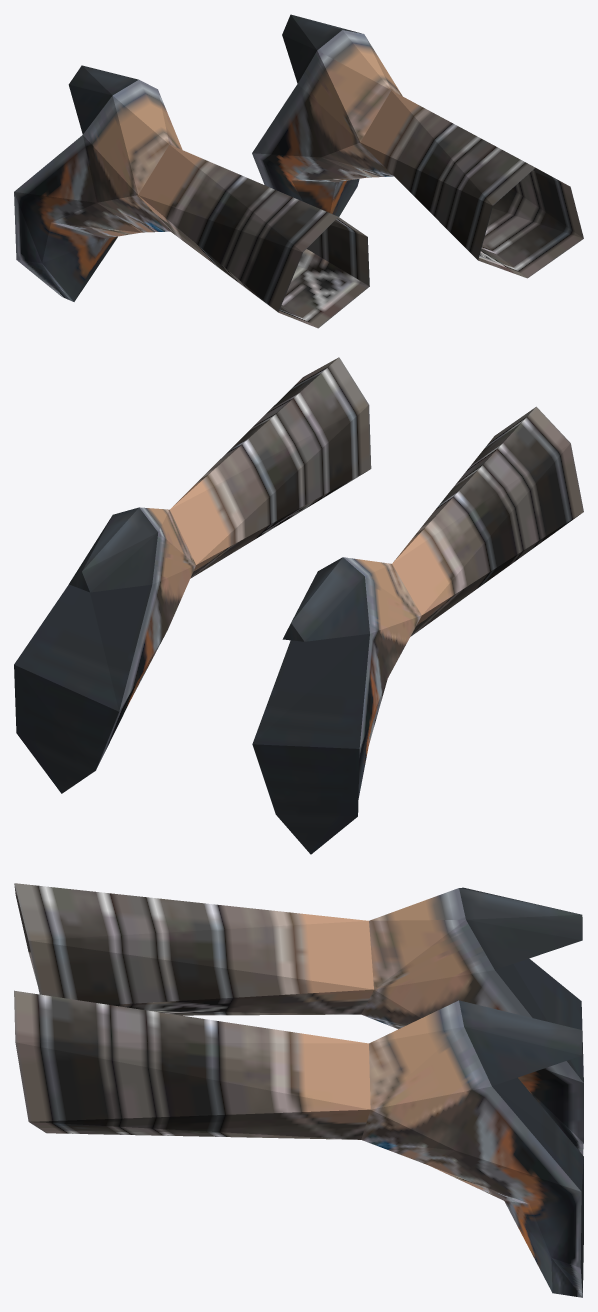
The model's file is robber_shoe_female_47031.obj.
3 views of the same model, one above another, from view 1: azimuth 30°, elevation 25°; view 2: azimuth 150°, elevation 25°; view 3: azimuth 270°, elevation 25° (orthographic). The views are drawn at different scales.
Parts seen in each view (by area): view 1: robber_shoe_female_47031; view 2: robber_shoe_female_47031; view 3: robber_shoe_female_47031.
Part boxes in pixels (bbox=[...]): robber_shoe_female_47031: bbox=[14, 14, 583, 328]; robber_shoe_female_47031: bbox=[14, 357, 583, 854]; robber_shoe_female_47031: bbox=[14, 883, 583, 1297].
Size of the model in its own units: 17.79 by 12.74 by 22.47.
1 material, 1 textured.
